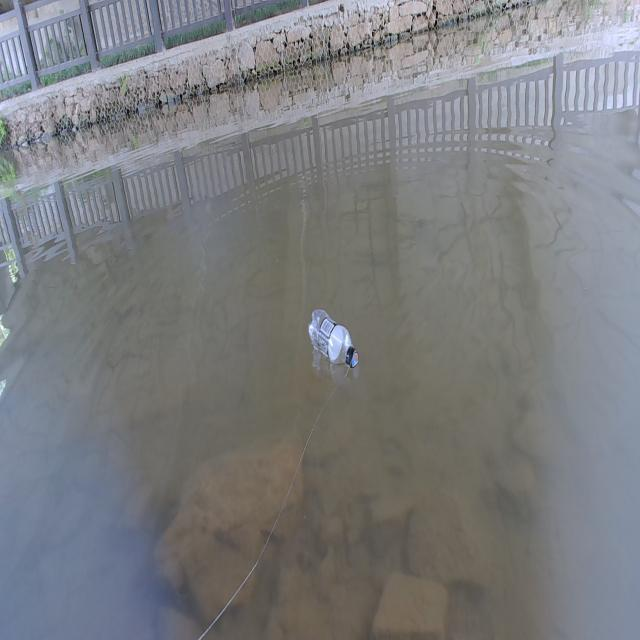bottle: (292, 275, 379, 402)
